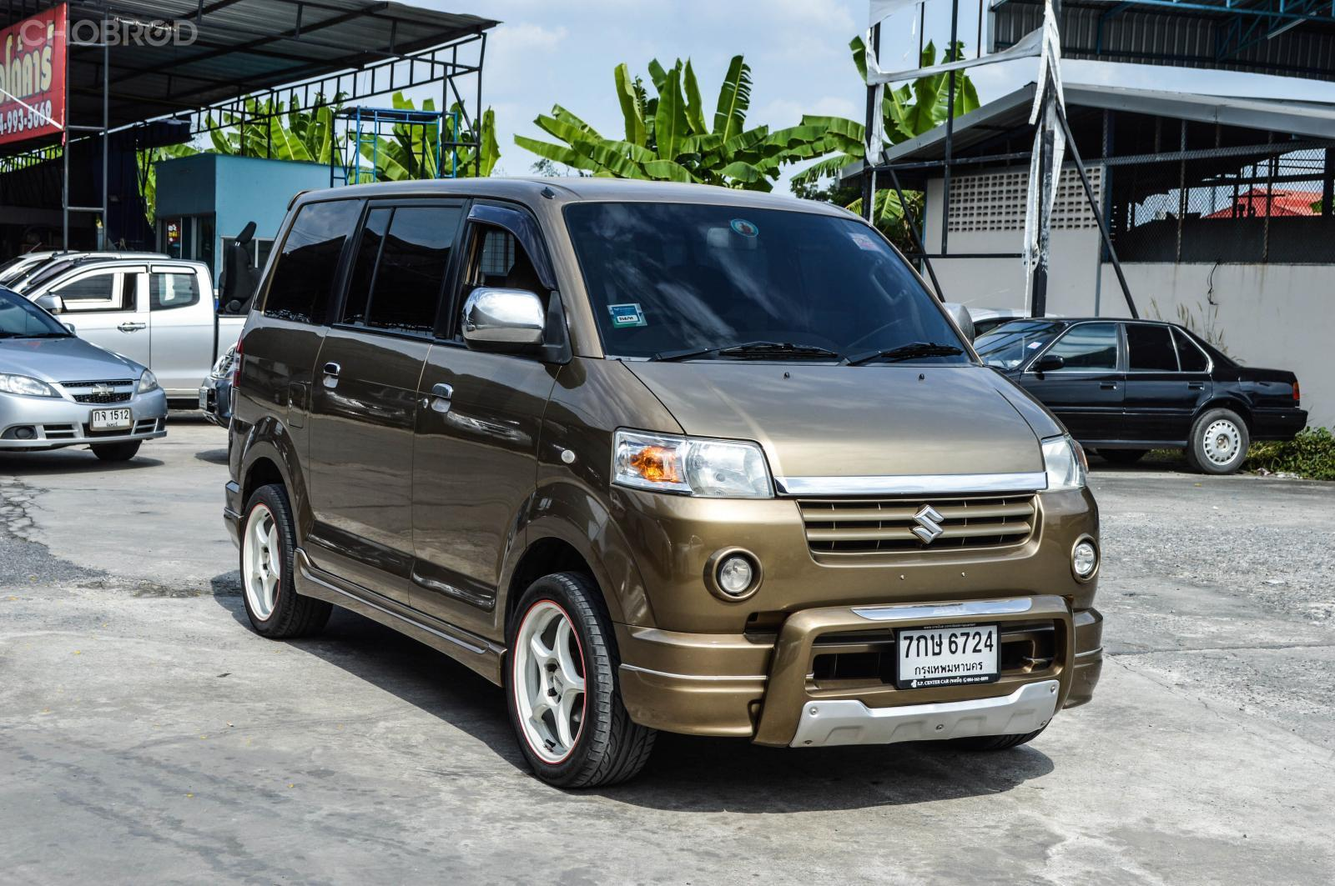license-plate: (892, 626, 1006, 689), (88, 406, 132, 432)
